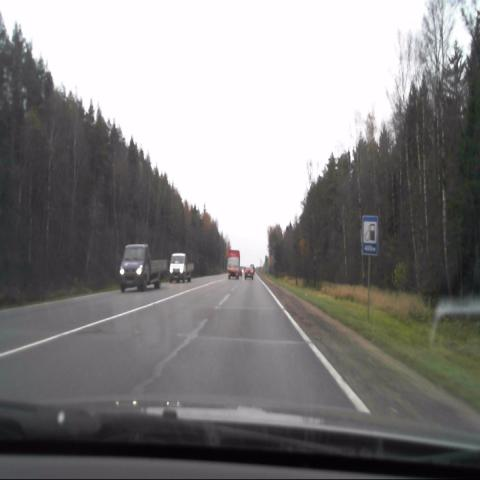7_3: (361, 215, 380, 256)
